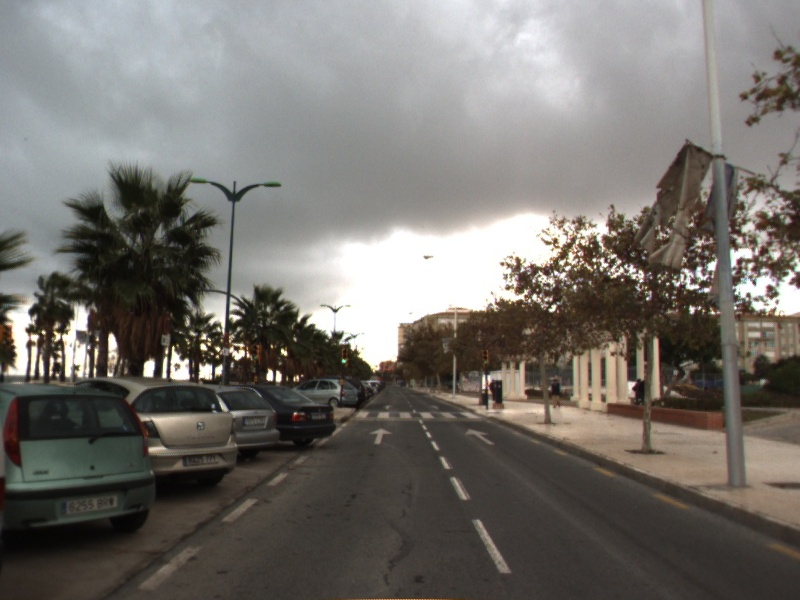STRAIGHT: (463, 427, 497, 446), (368, 426, 394, 446)
